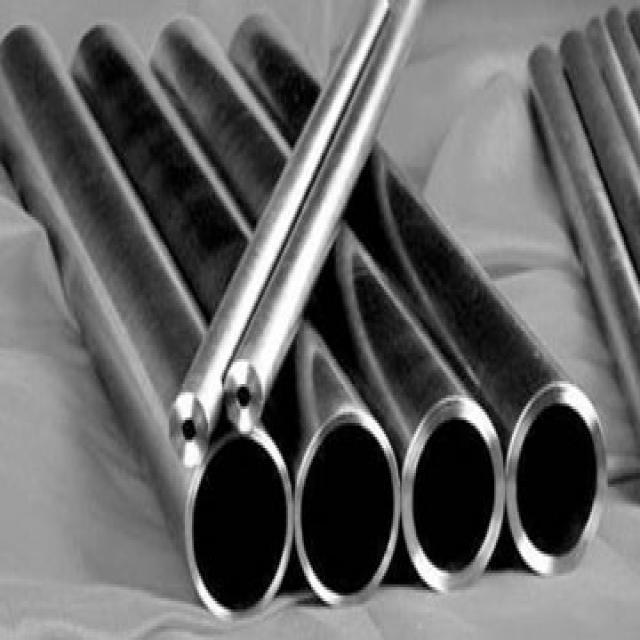pipe: (185, 430, 294, 618), (296, 409, 400, 606), (402, 397, 505, 593), (507, 382, 608, 576), (170, 393, 208, 468), (225, 361, 262, 432)
